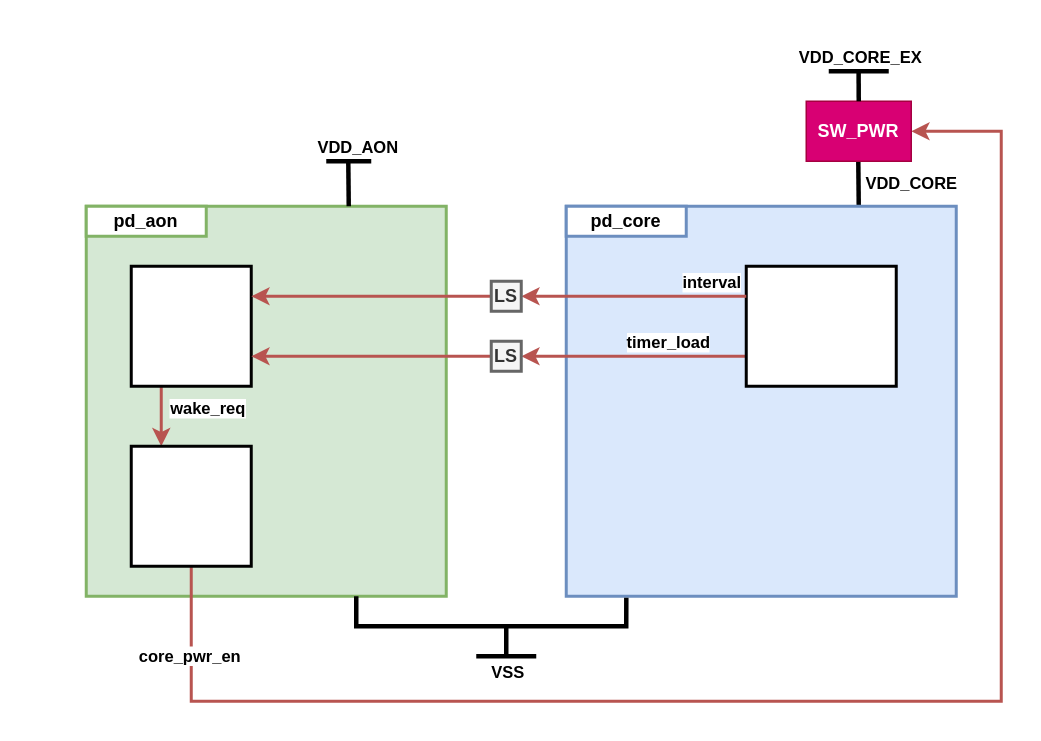
This 1041x741 diagram has some shape labels left out. Here are the shapes that lost their labels. From the top down, the centre of each, then its label:
At (x=190, y=325): "Timer".
At (x=820, y=325): "ble_baseband".
At (x=190, y=505): "ctrl".
